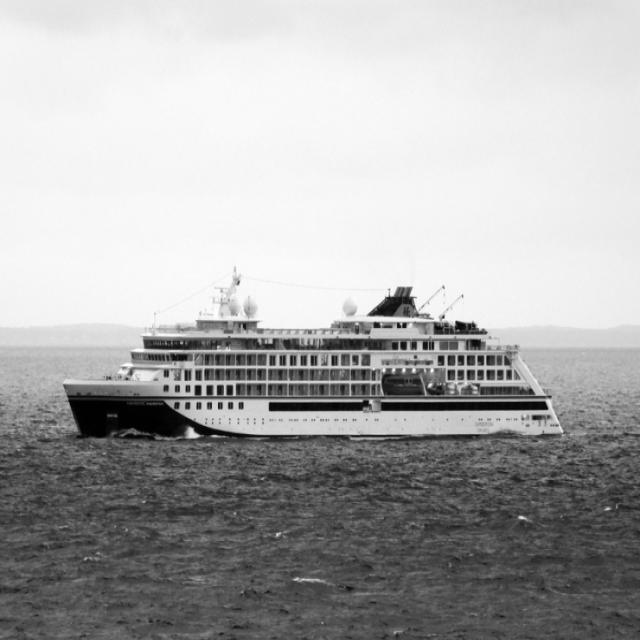cruises: (58, 265, 568, 448)
